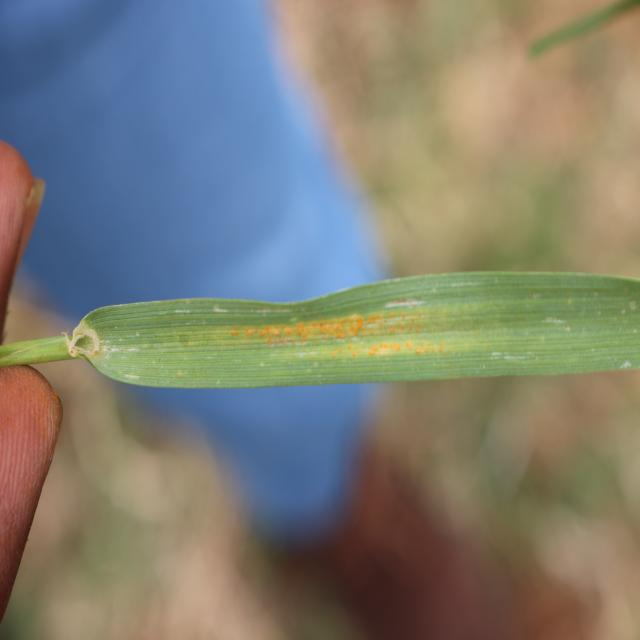Stripe Rust: (226, 316, 444, 360)
